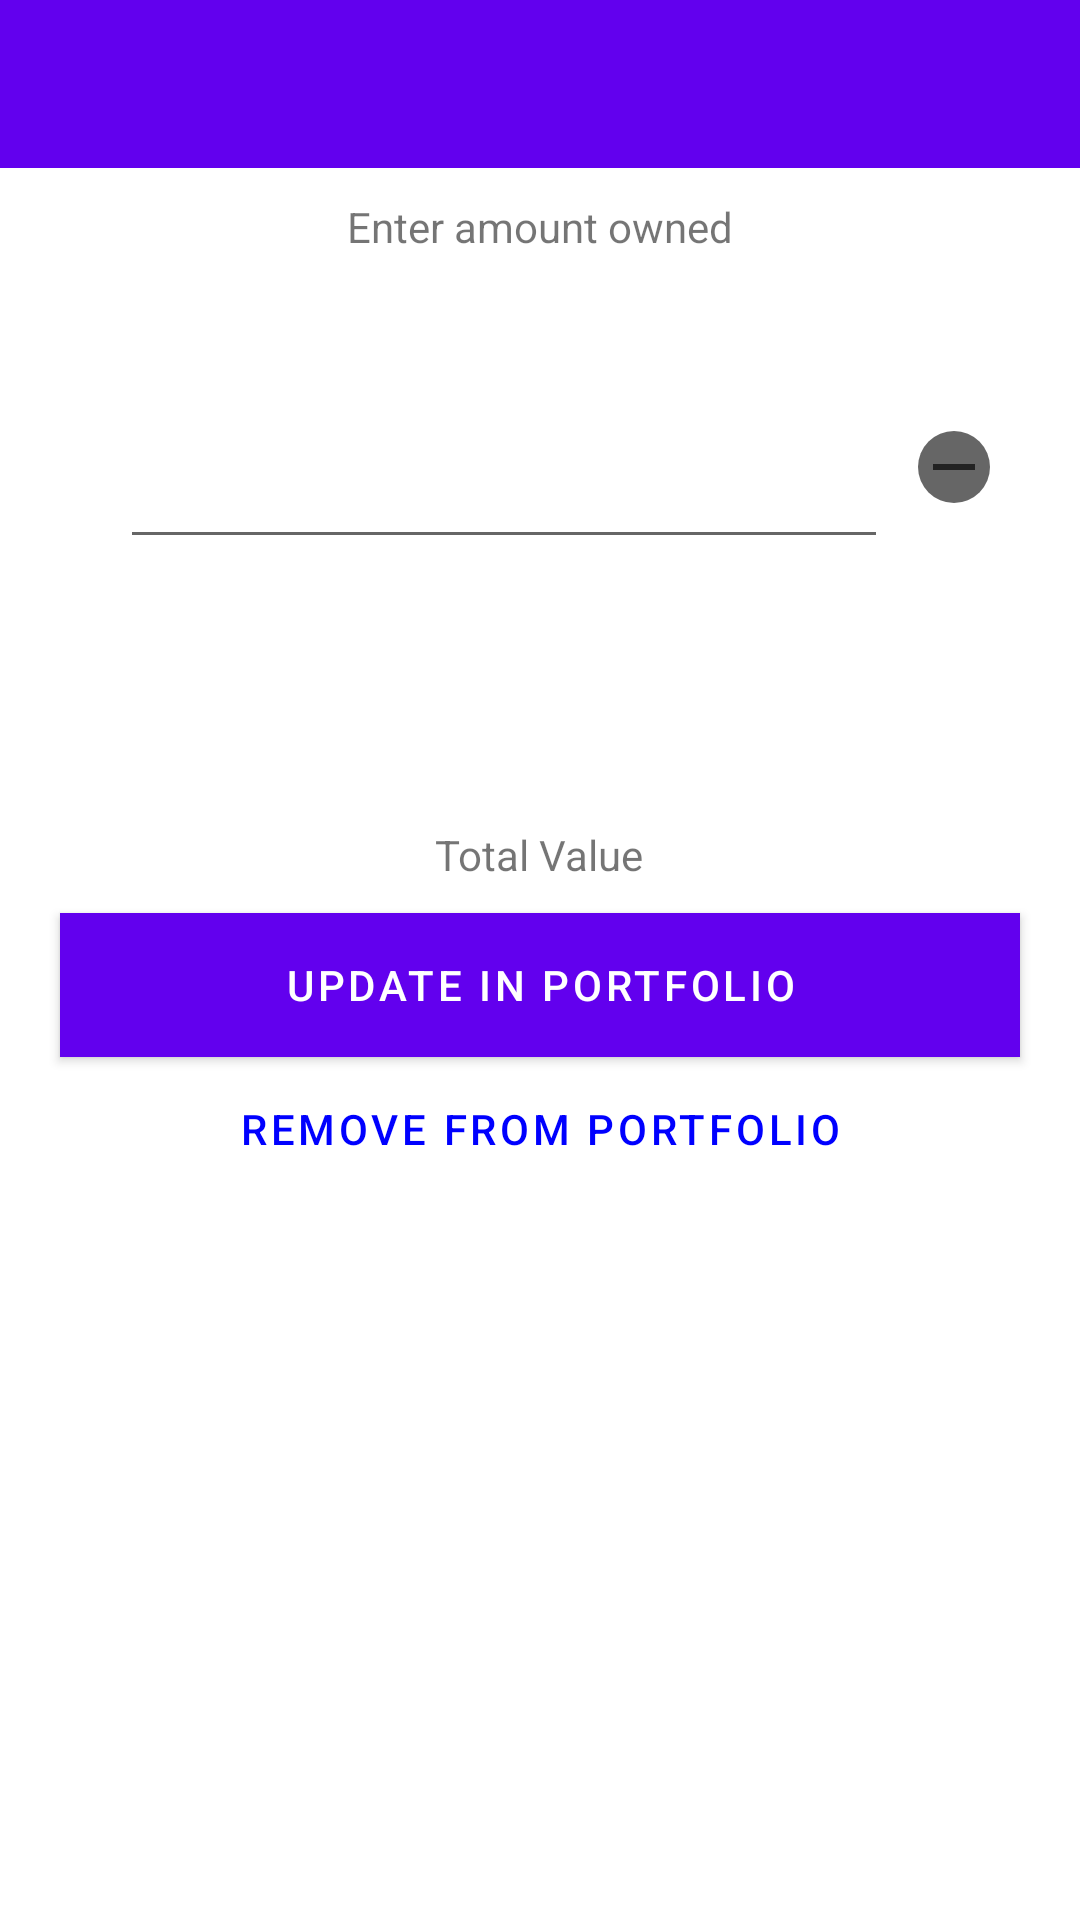

Icon click points for this 1080w x 1920h phone screenshot, format [x,y]:
remove: [954,467]
